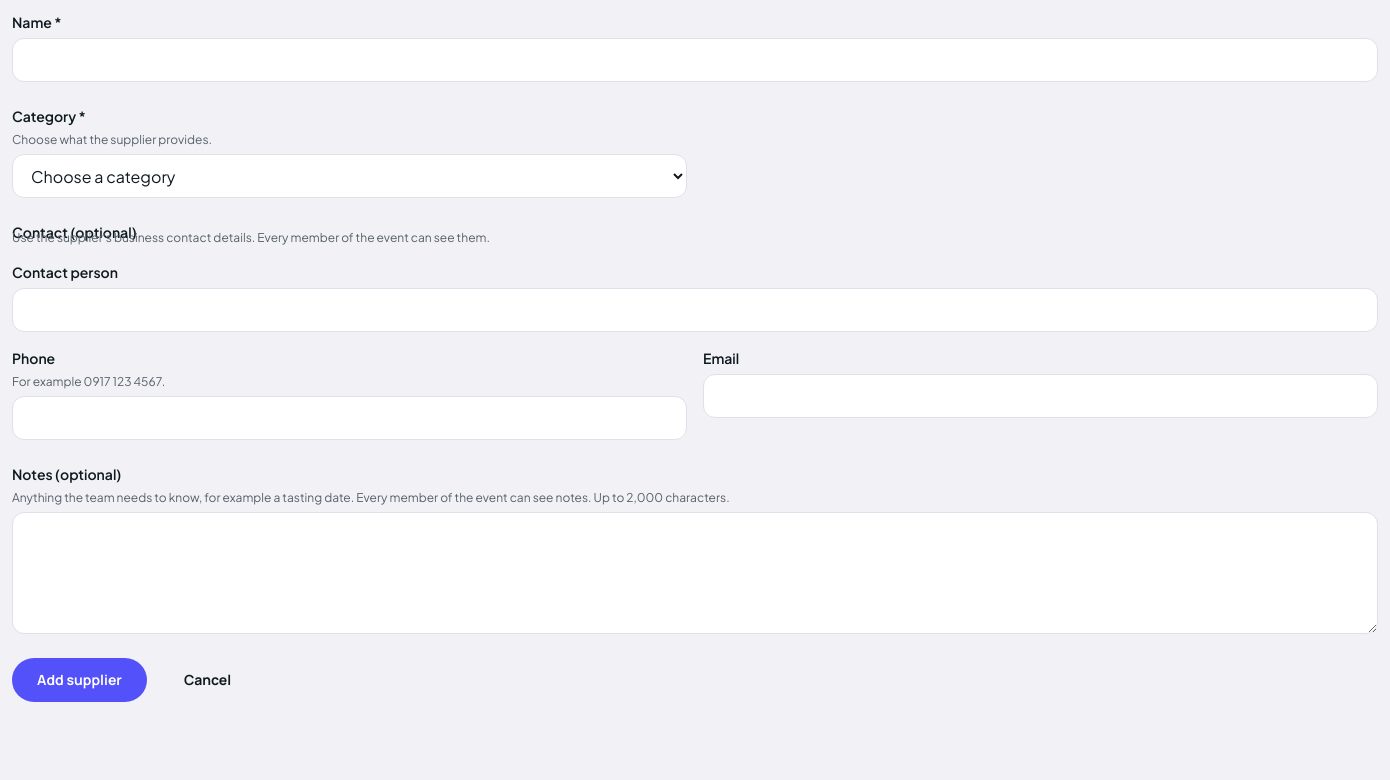
SupplierForm › asks what the supplier provides only for Other
Expected: the field labelled "What they provide" is not shown
Step 1. Select "Other" in the dropdown labelled "Category *" → (350, 176), box [12,154,687,198]
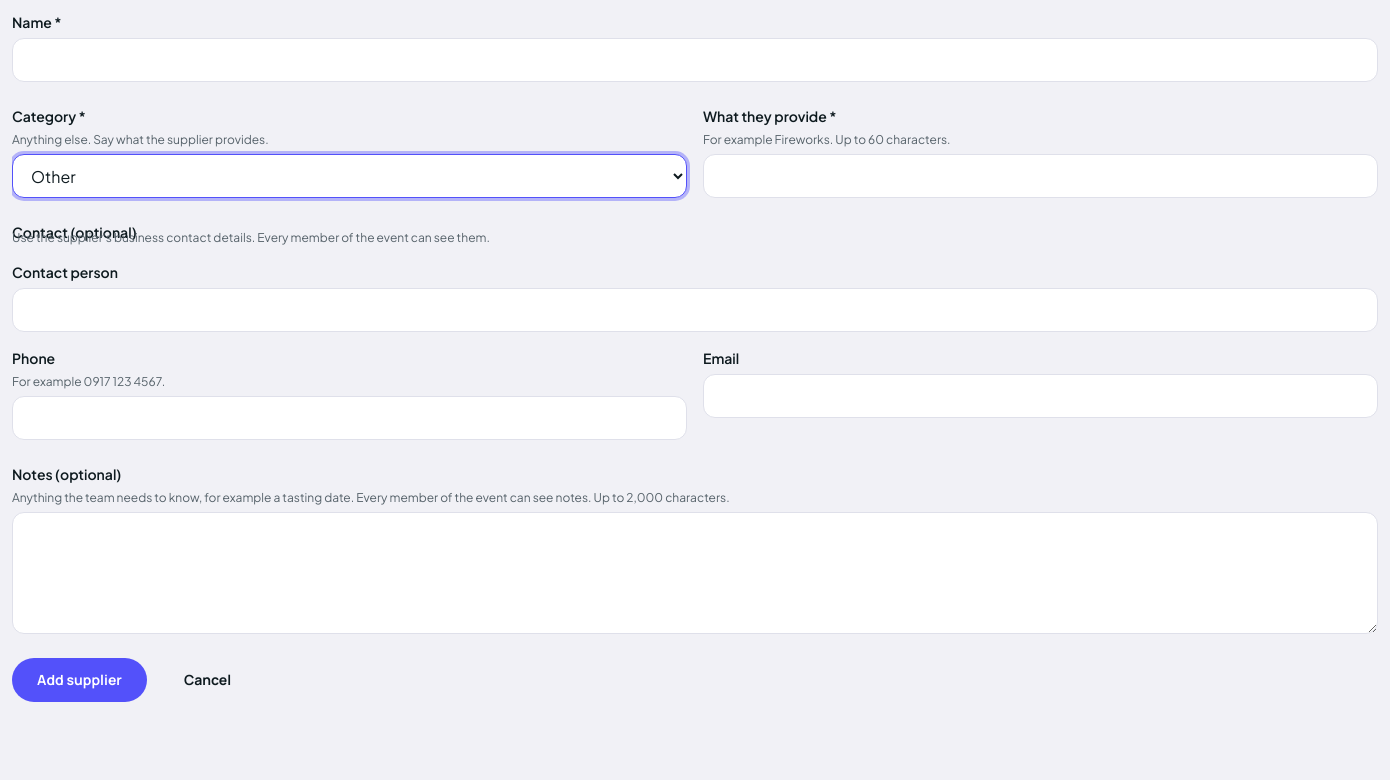
Step 2. Type "Sparkle Lights" into the field labelled "Name *" → (695, 60), box [12,38,1378,82]
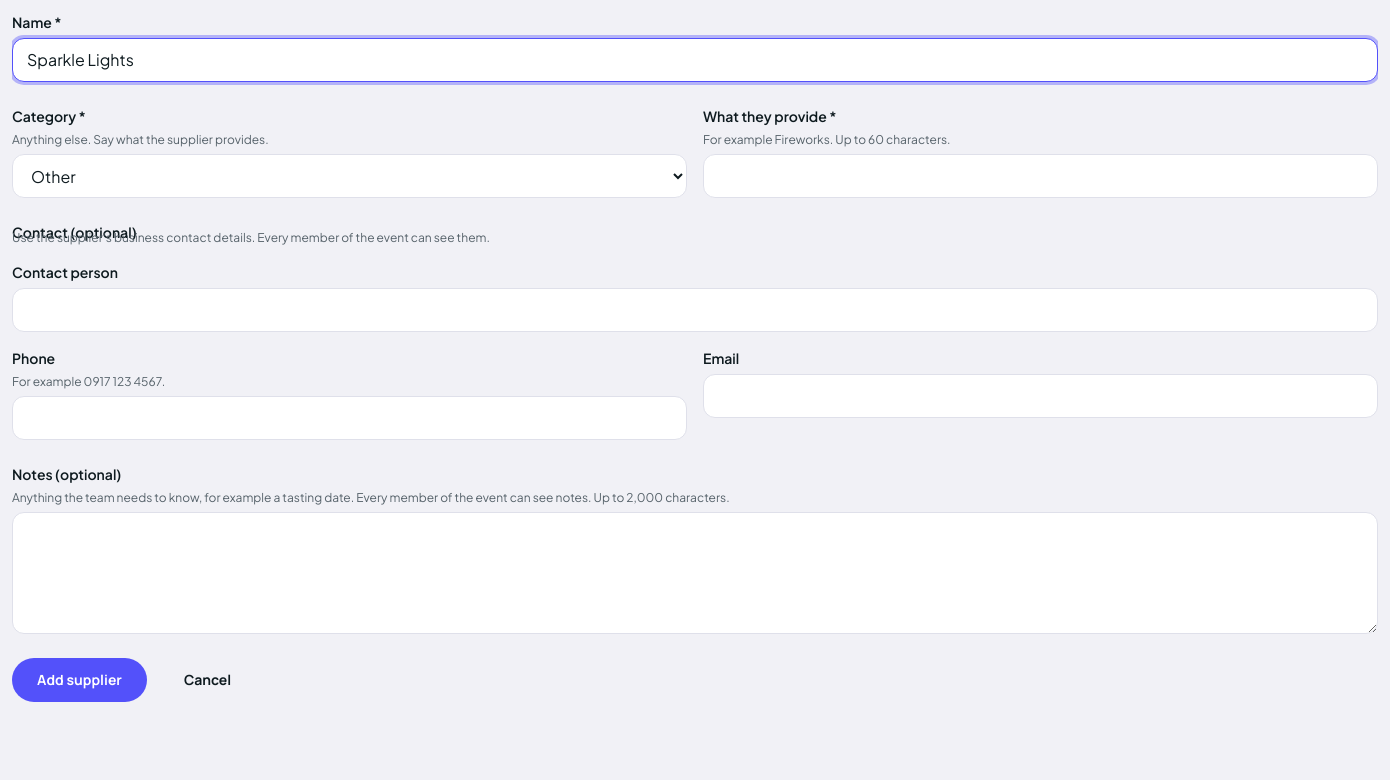
Step 3. Type "Fireworks" into the field labelled "What they provide *" → (1040, 176), box [703,154,1378,198]
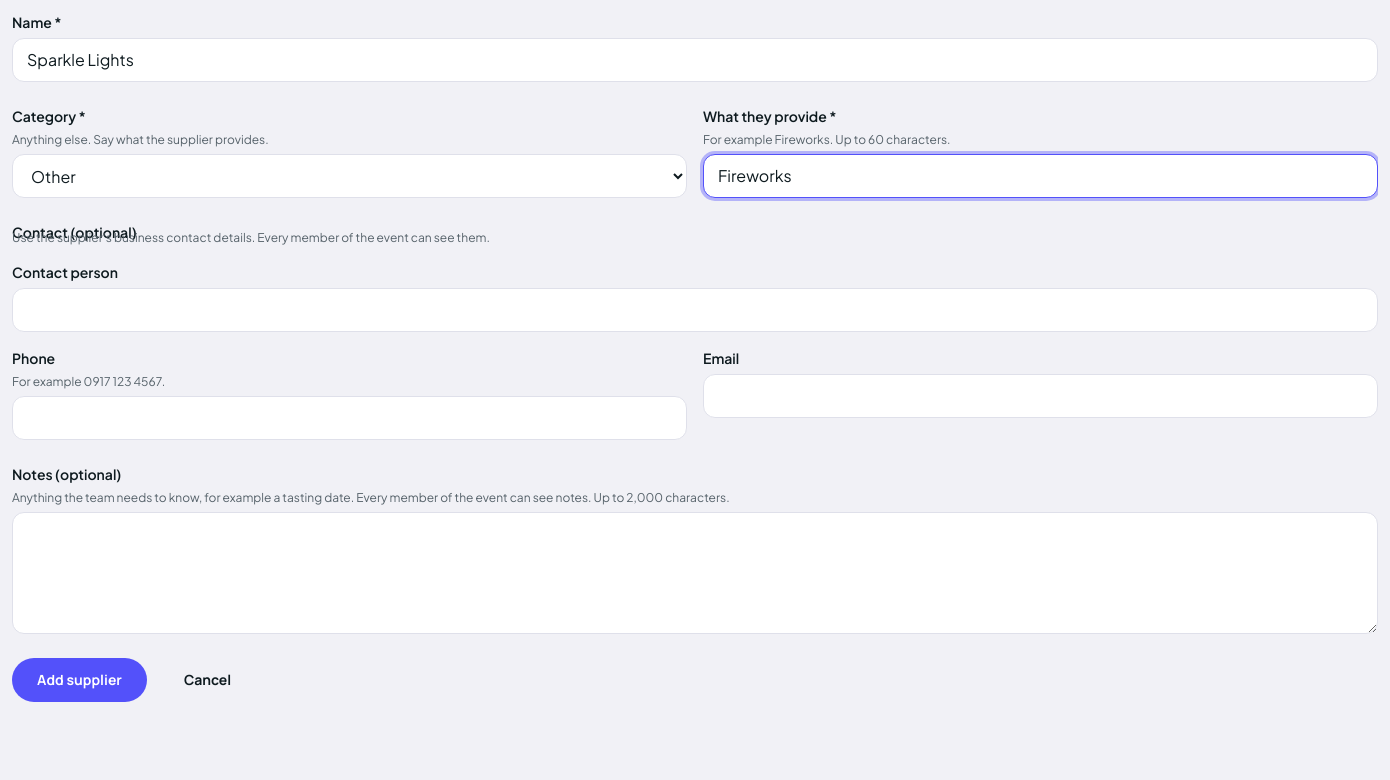
Step 4. Click the button "Add supplier" → (79, 680), box [12,658,147,702]
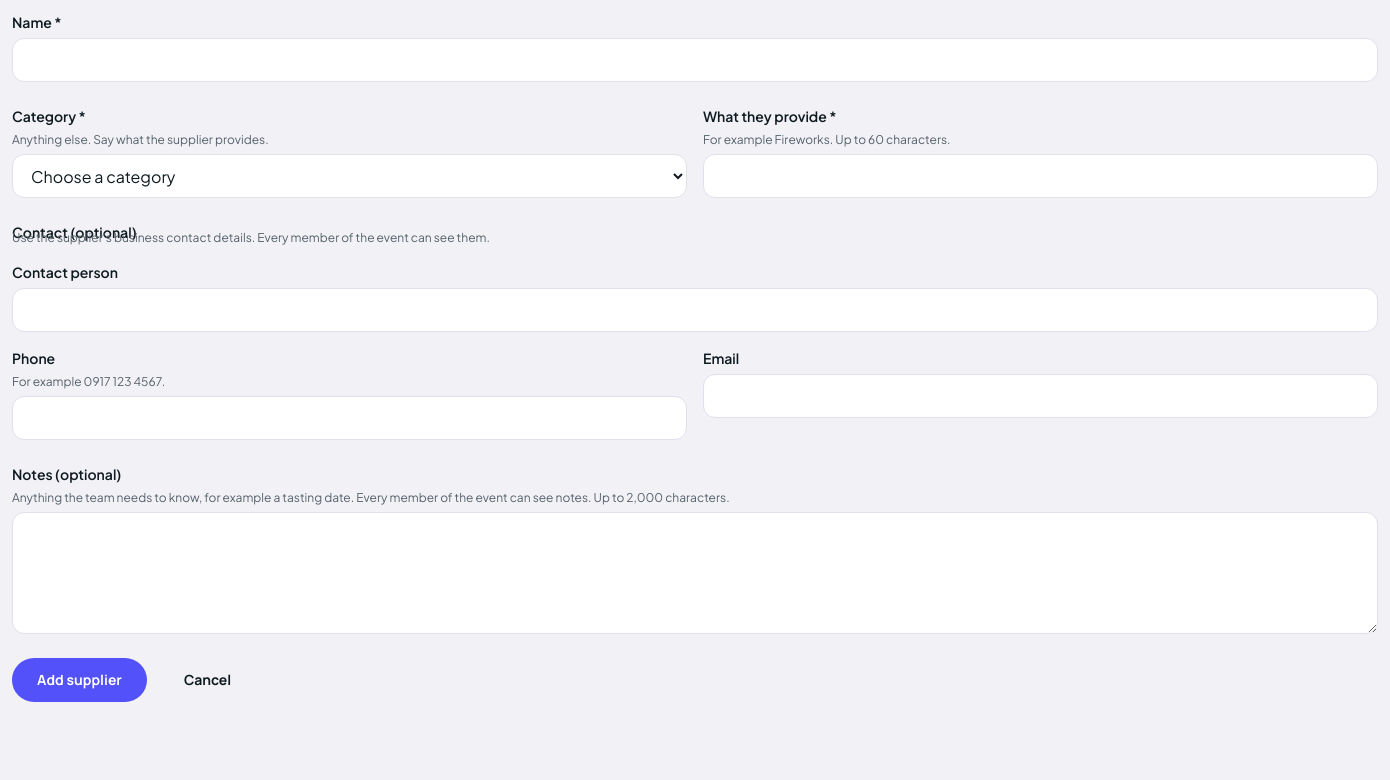
Step 5. Select "Venue" in the dropdown labelled "Category *" → (350, 176), box [12,154,687,198]
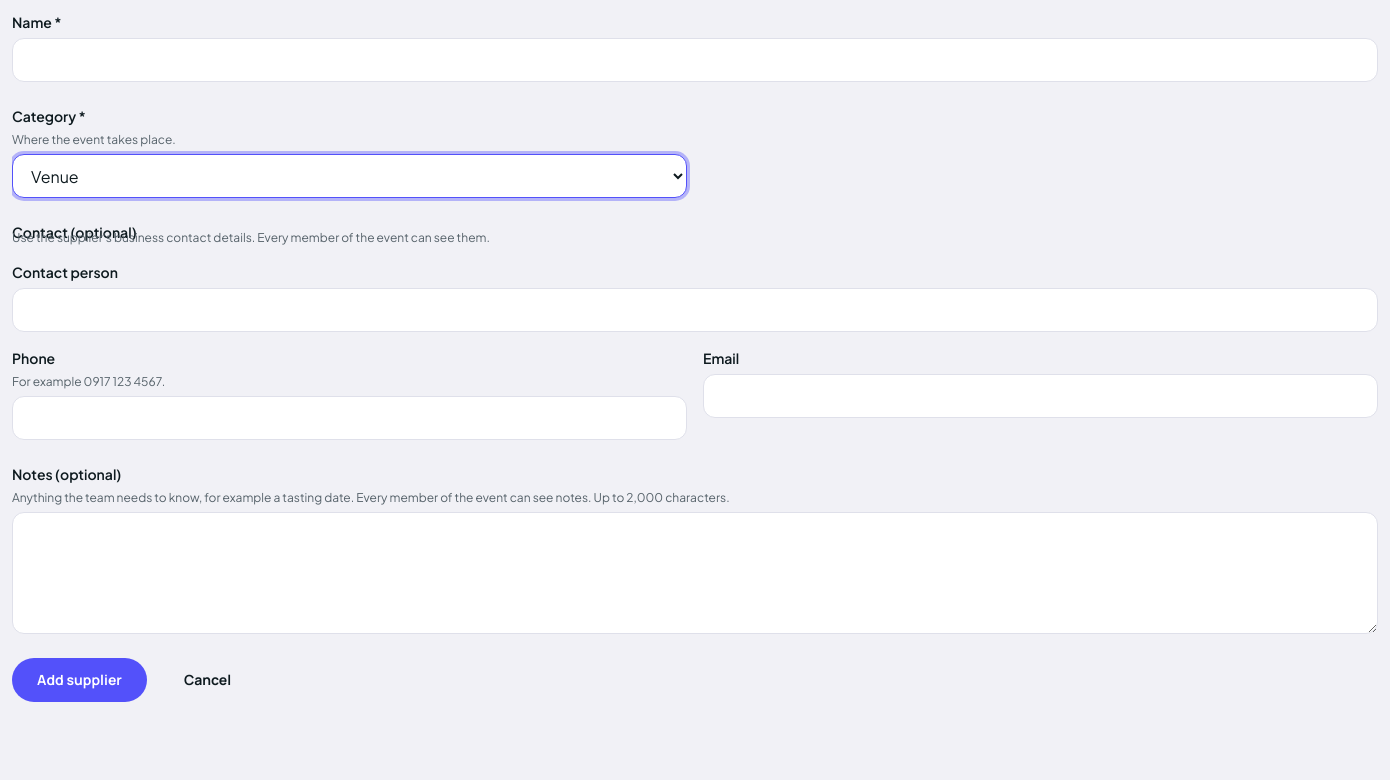
Expected: the label labelled "What they provide" is gone
